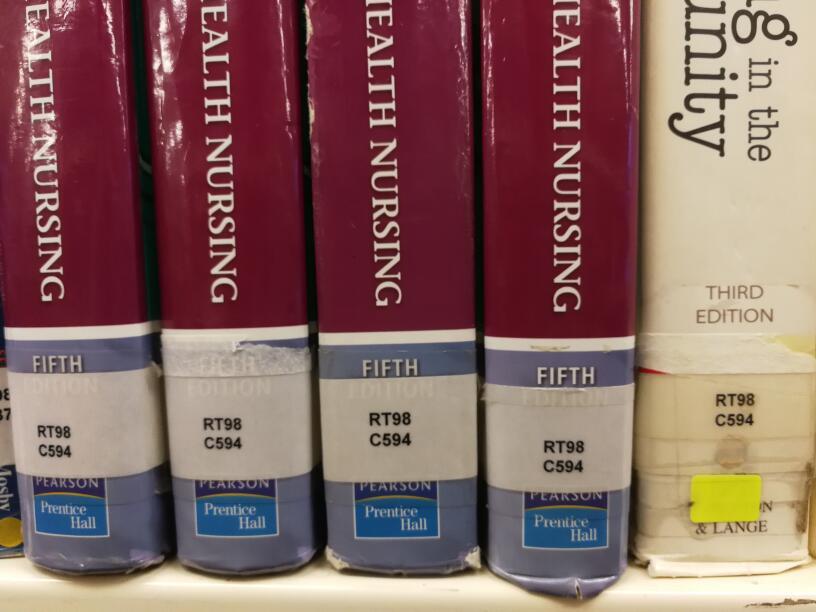booklabel: (366, 408, 418, 447), (712, 389, 756, 430), (201, 414, 246, 451), (34, 420, 76, 459), (542, 437, 586, 474)
